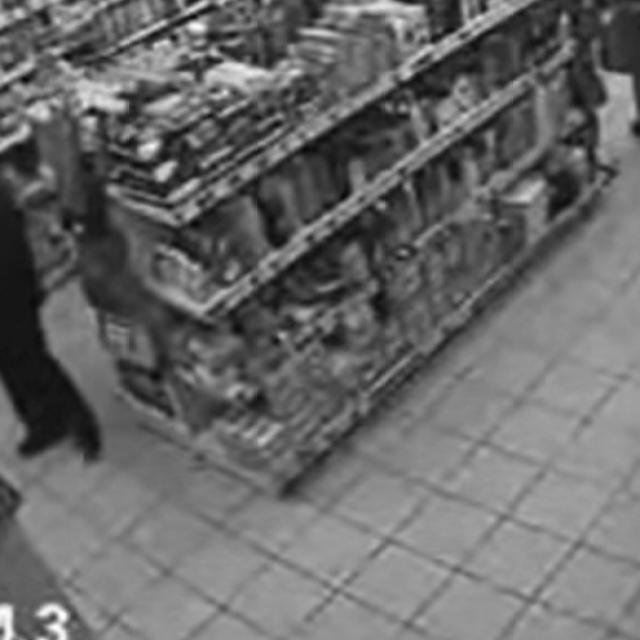Invader: (0, 138, 108, 468)
